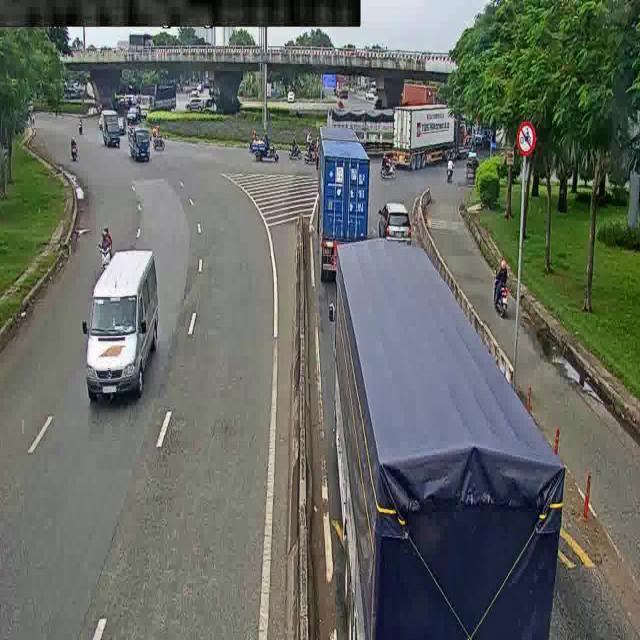car: (83, 242, 156, 398), (365, 199, 428, 250), (120, 105, 150, 127)
motorbike: (490, 249, 520, 310), (91, 109, 125, 160), (94, 224, 123, 280), (123, 127, 151, 159), (252, 134, 285, 161), (65, 123, 83, 165), (303, 131, 321, 168), (147, 127, 172, 153), (376, 155, 398, 179), (445, 156, 458, 183), (289, 137, 300, 160), (76, 118, 85, 132)
truck: (315, 235, 563, 640), (310, 124, 370, 271), (322, 102, 451, 146), (386, 101, 479, 161)
